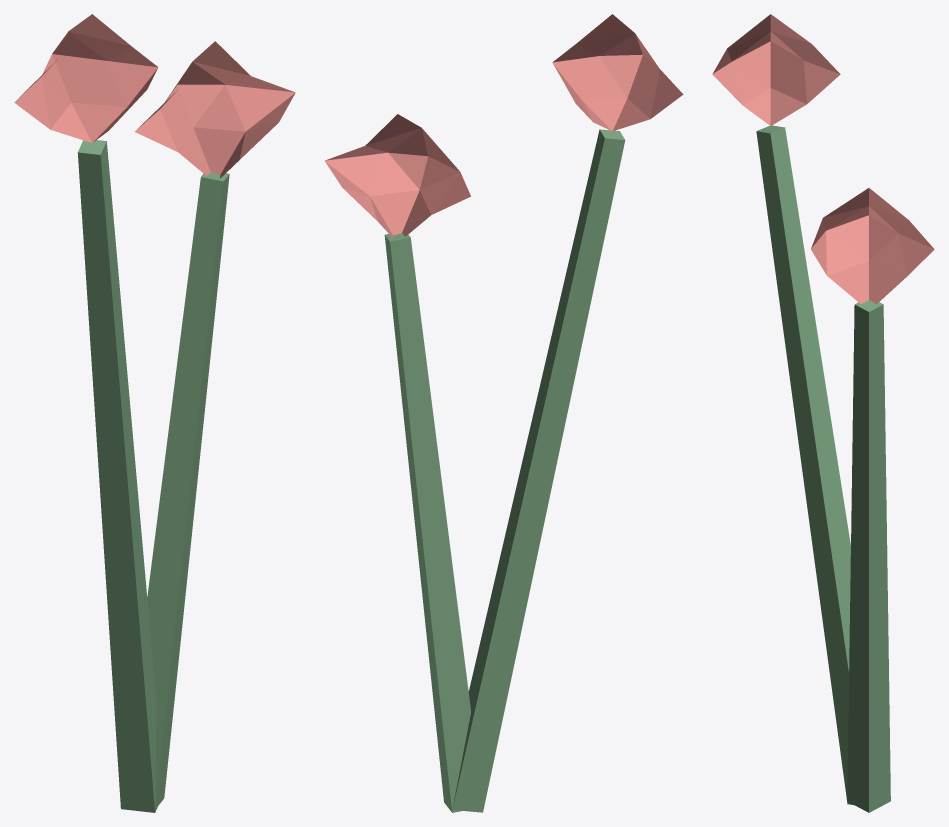
Rendered from flower_v28.glb.
3 renders of one model, left to right at view 1: azimuth 30°, elevation 25°; view 2: azimuth 150°, elevation 25°; view 3: azimuth 270°, elevation 25°, orthographic. The views are drawn at different scales.
Parts seen in each view (by area): view 1: lod0; view 2: lod0; view 3: lod0.
Boxes of the visible parts, x1,y1,x2,y2 form: lod0: (14, 14, 295, 812); lod0: (325, 14, 683, 812); lod0: (712, 14, 934, 812).
Size of what is drawn, in the model's own units: 0.2797 by 0.6776 by 0.1833.
